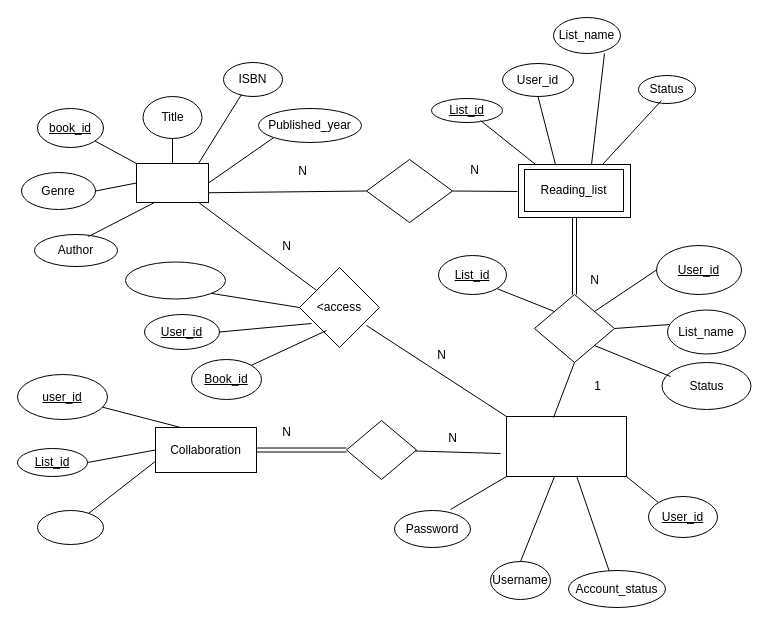
Image size: 769x625. Some labels were removed from this diagram. The centre of each missing label's shape, as x and y in pixels:
"<invites" goes at (x=381, y=450).
"appears >" goes at (x=409, y=190).
"Book" goes at (x=172, y=182).
"Permission_level" goes at (x=175, y=280).
"Process on" goes at (x=574, y=328).
"role" goes at (x=70, y=527).
"User" goes at (x=566, y=446).
